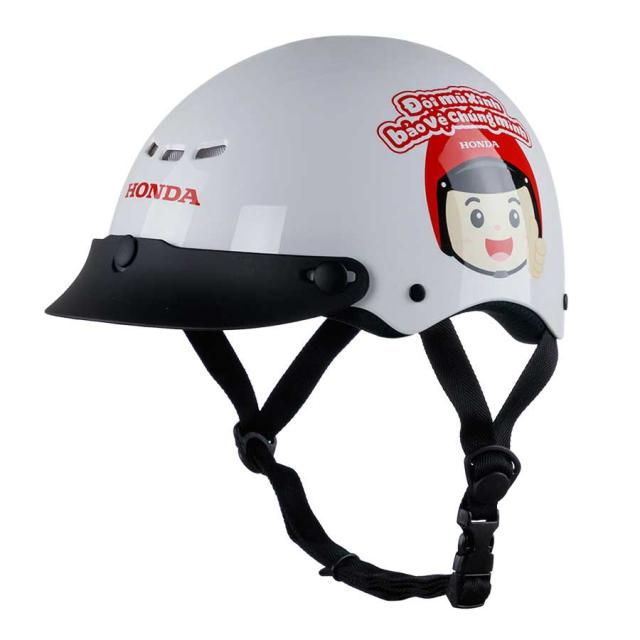Helmet: (43, 33, 571, 342)
